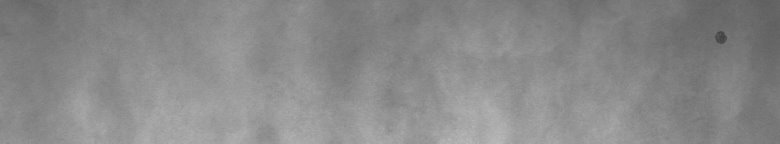fi: (712, 24, 731, 52)
